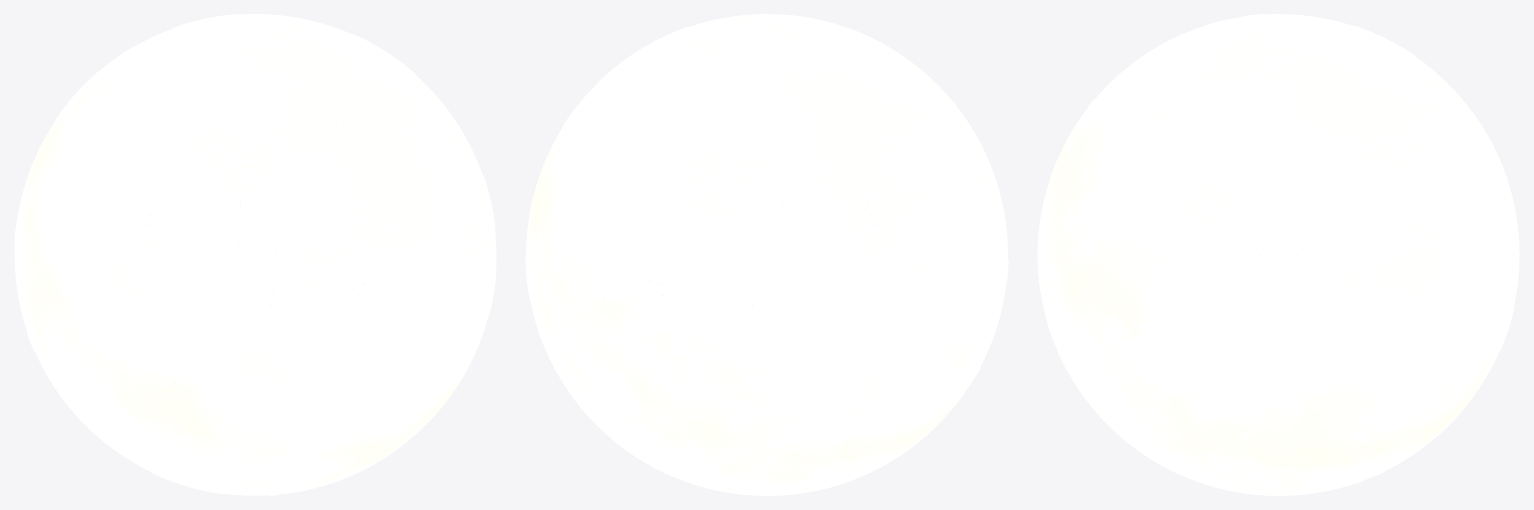
File: star_yellow.glb
3 renders of one model, left to right at view 1: azimuth 30°, elevation 25°; view 2: azimuth 150°, elevation 25°; view 3: azimuth 270°, elevation 25°, orthographic.
Parts seen in each view (by area): view 1: star_yellow; view 2: star_yellow; view 3: star_yellow.
Part boxes in pixels (bbox=[...]): star_yellow: bbox=[14, 14, 496, 495]; star_yellow: bbox=[525, 14, 1008, 495]; star_yellow: bbox=[1037, 14, 1519, 495].
Size of the model in its own units: 2 by 2 by 2.
